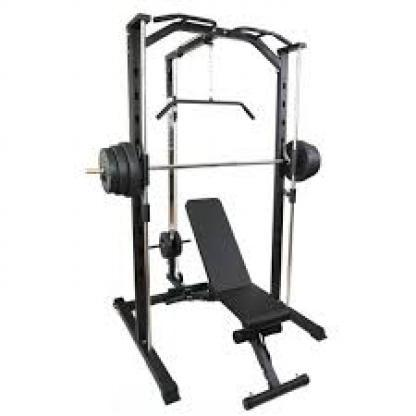smith machine: (83, 11, 328, 409)
